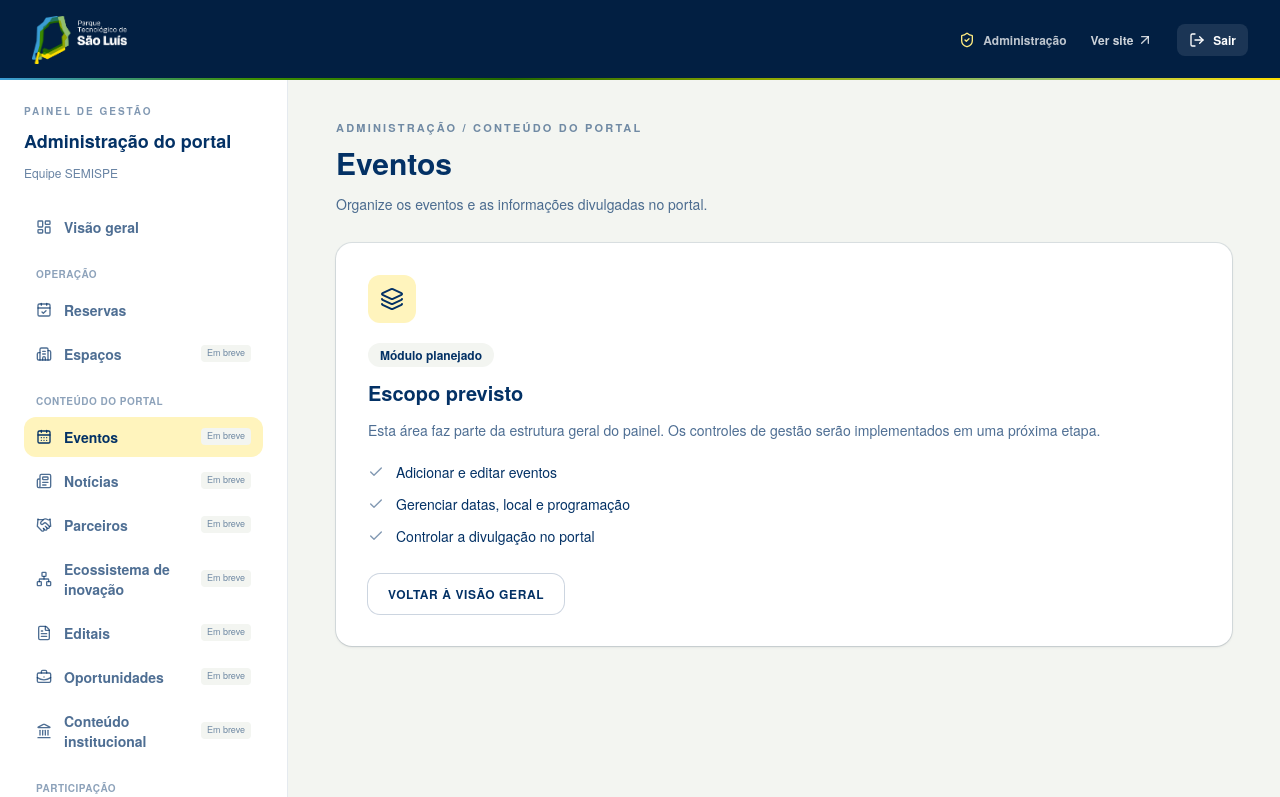
identifica funcionalidades futuras como planejadas e permite voltar ao início
expect the heading "Eventos" is shown: met, box top-left (336, 140), bottom-right (452, 184)
expect the text "Módulo planejado" is shown: met, box top-left (368, 343), bottom-right (494, 367)
Click the link "Voltar à visão geral". click: click(466, 594)
box: top-left (368, 574), bottom-right (564, 614)
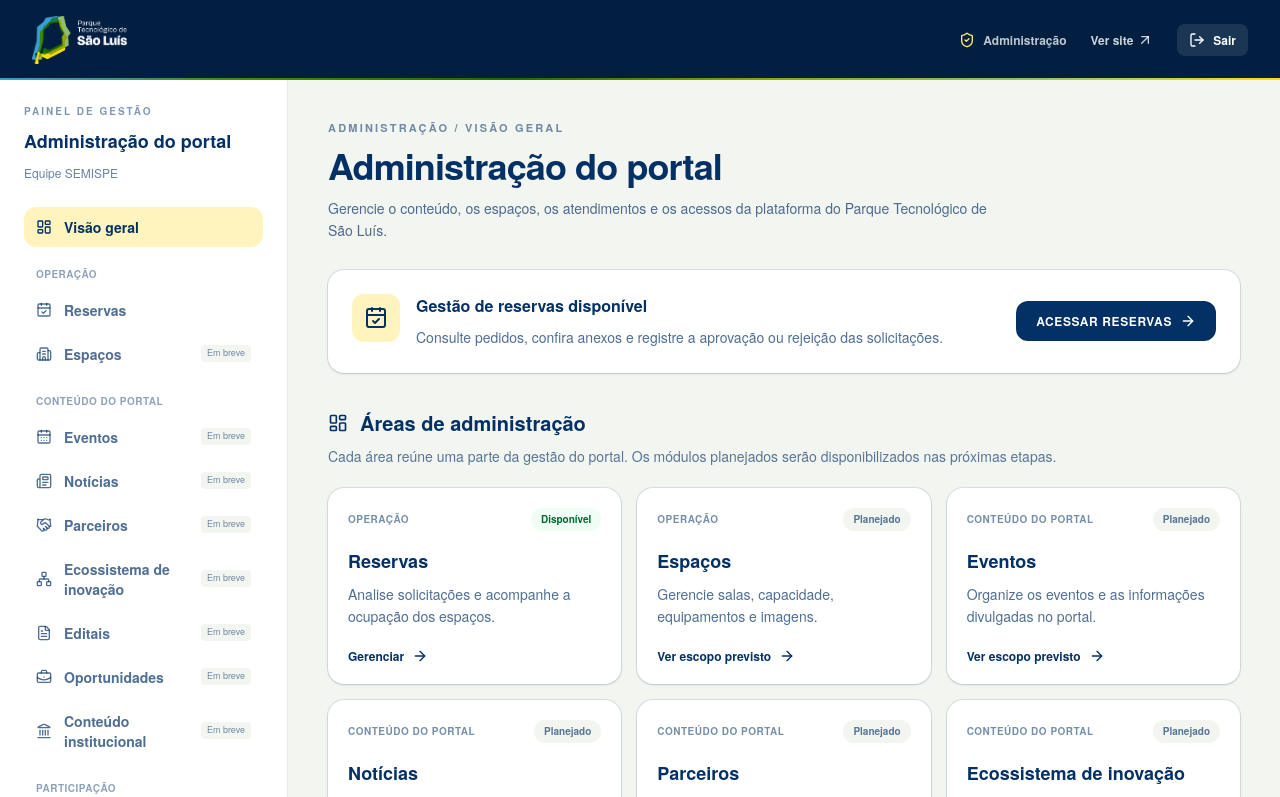
expect the heading "Administração do portal" below "Administração / Visão geral" is shown: met, box top-left (328, 138), bottom-right (722, 190)
